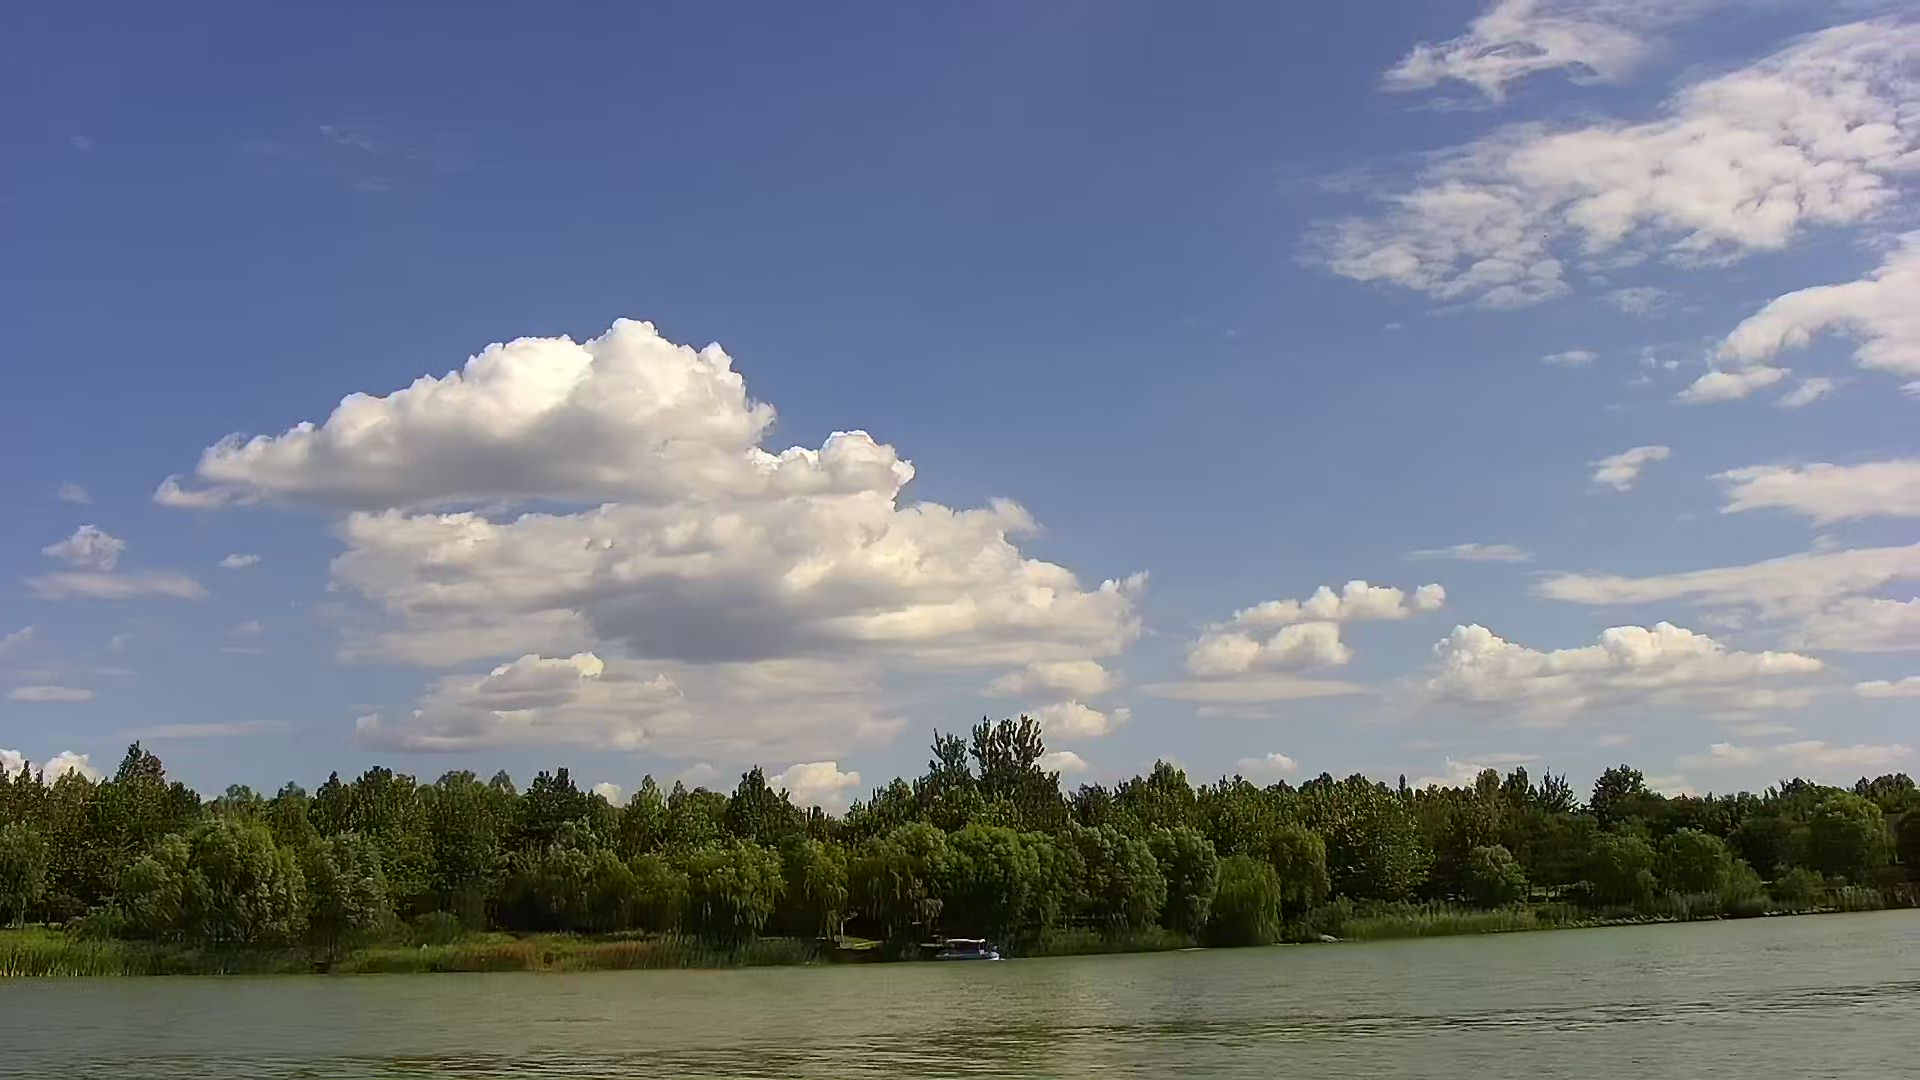boat: (928, 936, 1001, 964)
